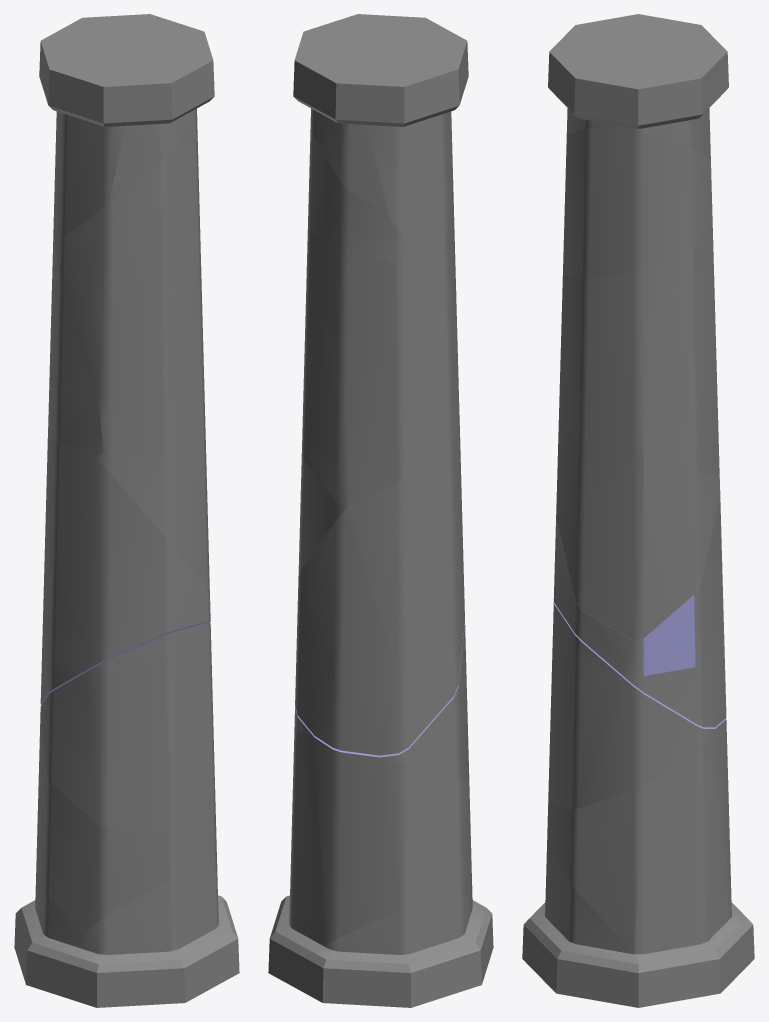
The model's file is Pillar in Chunks .fbx.
3 renders of one model, left to right at view 1: azimuth 30°, elevation 25°; view 2: azimuth 150°, elevation 25°; view 3: azimuth 270°, elevation 25°, orthographic.
Parts seen in each view (by area): view 1: Pillar20, Pillar4, Pillar19, Pillar10, Pillar9, Pillar17, Pillar13, Pillar14, Pillar15, Pillar18, Pillar12; view 2: Pillar4, Pillar18, Pillar17, Pillar13, Pillar12, Pillar14, Pillar10, Pillar20, Pillar15, Pillar19; view 3: Pillar17, Pillar15, Pillar10, Pillar20, Pillar9, Pillar14, Pillar4, Pillar18, Pillar19, Pillar13, Pillar12.
Part boxes in pixels (x1,y1,x2,y2): Pillar20: (40, 623, 214, 834); Pillar4: (40, 438, 210, 704); Pillar19: (64, 870, 239, 1007); Pillar10: (53, 110, 200, 311); Pillar9: (88, 261, 205, 453); Pillar17: (36, 724, 219, 934); Pillar13: (39, 20, 142, 236); Pillar14: (78, 14, 214, 201); Pillar15: (95, 425, 209, 592); Pillar18: (48, 232, 104, 456); Pillar12: (14, 862, 82, 997); Pillar4: (295, 423, 464, 755); Pillar18: (302, 233, 459, 506); Pillar17: (268, 731, 471, 975); Pillar13: (343, 27, 468, 238); Pillar12: (274, 895, 488, 1007); Pillar14: (293, 14, 442, 213); Pillar10: (307, 127, 455, 279); Pillar20: (294, 624, 469, 780); Pillar15: (298, 415, 459, 574); Pillar19: (280, 878, 493, 963); Pillar17: (547, 718, 739, 1000); Pillar15: (556, 420, 719, 639); Pillar10: (563, 128, 712, 279); Pillar20: (548, 601, 714, 809); Pillar9: (559, 263, 668, 449); Pillar14: (548, 40, 728, 159); Pillar4: (553, 478, 726, 727); Pillar18: (644, 223, 719, 474); Pillar19: (522, 846, 681, 1007); Pillar13: (561, 14, 724, 48); Pillar12: (724, 902, 754, 989).
Bounding box in the file's own units: 240 × 1035 × 240.
